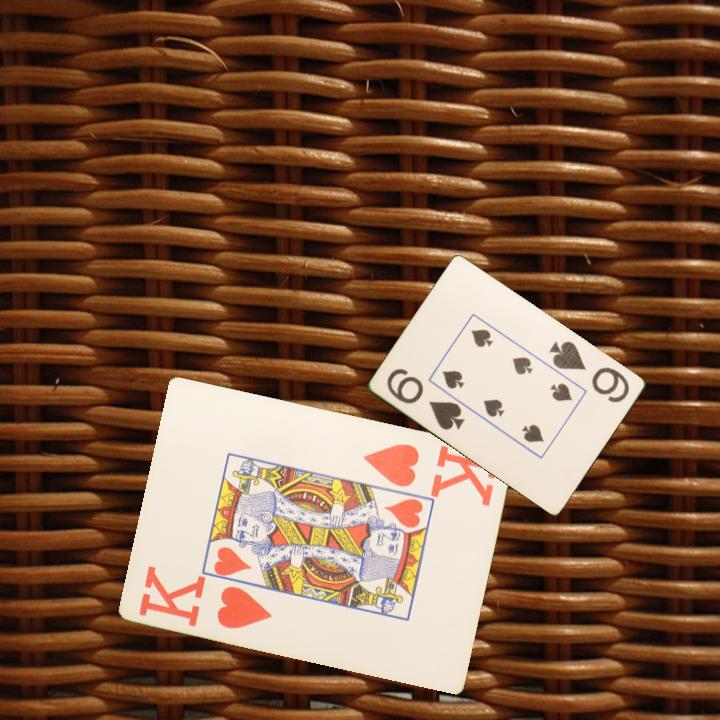6s: (546, 337, 633, 406), (383, 365, 468, 433)
Kh: (360, 439, 503, 508), (135, 563, 275, 632)
